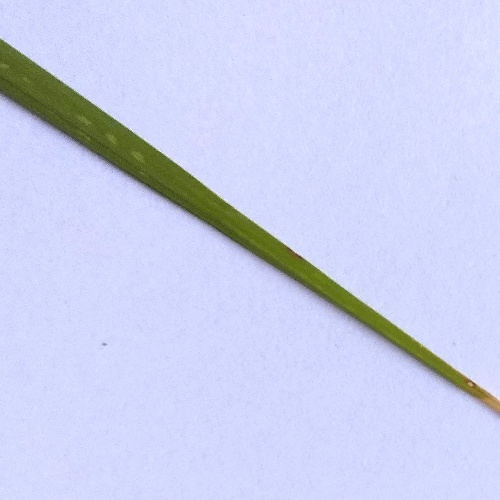Busuk Leher: (464, 375, 485, 396)
